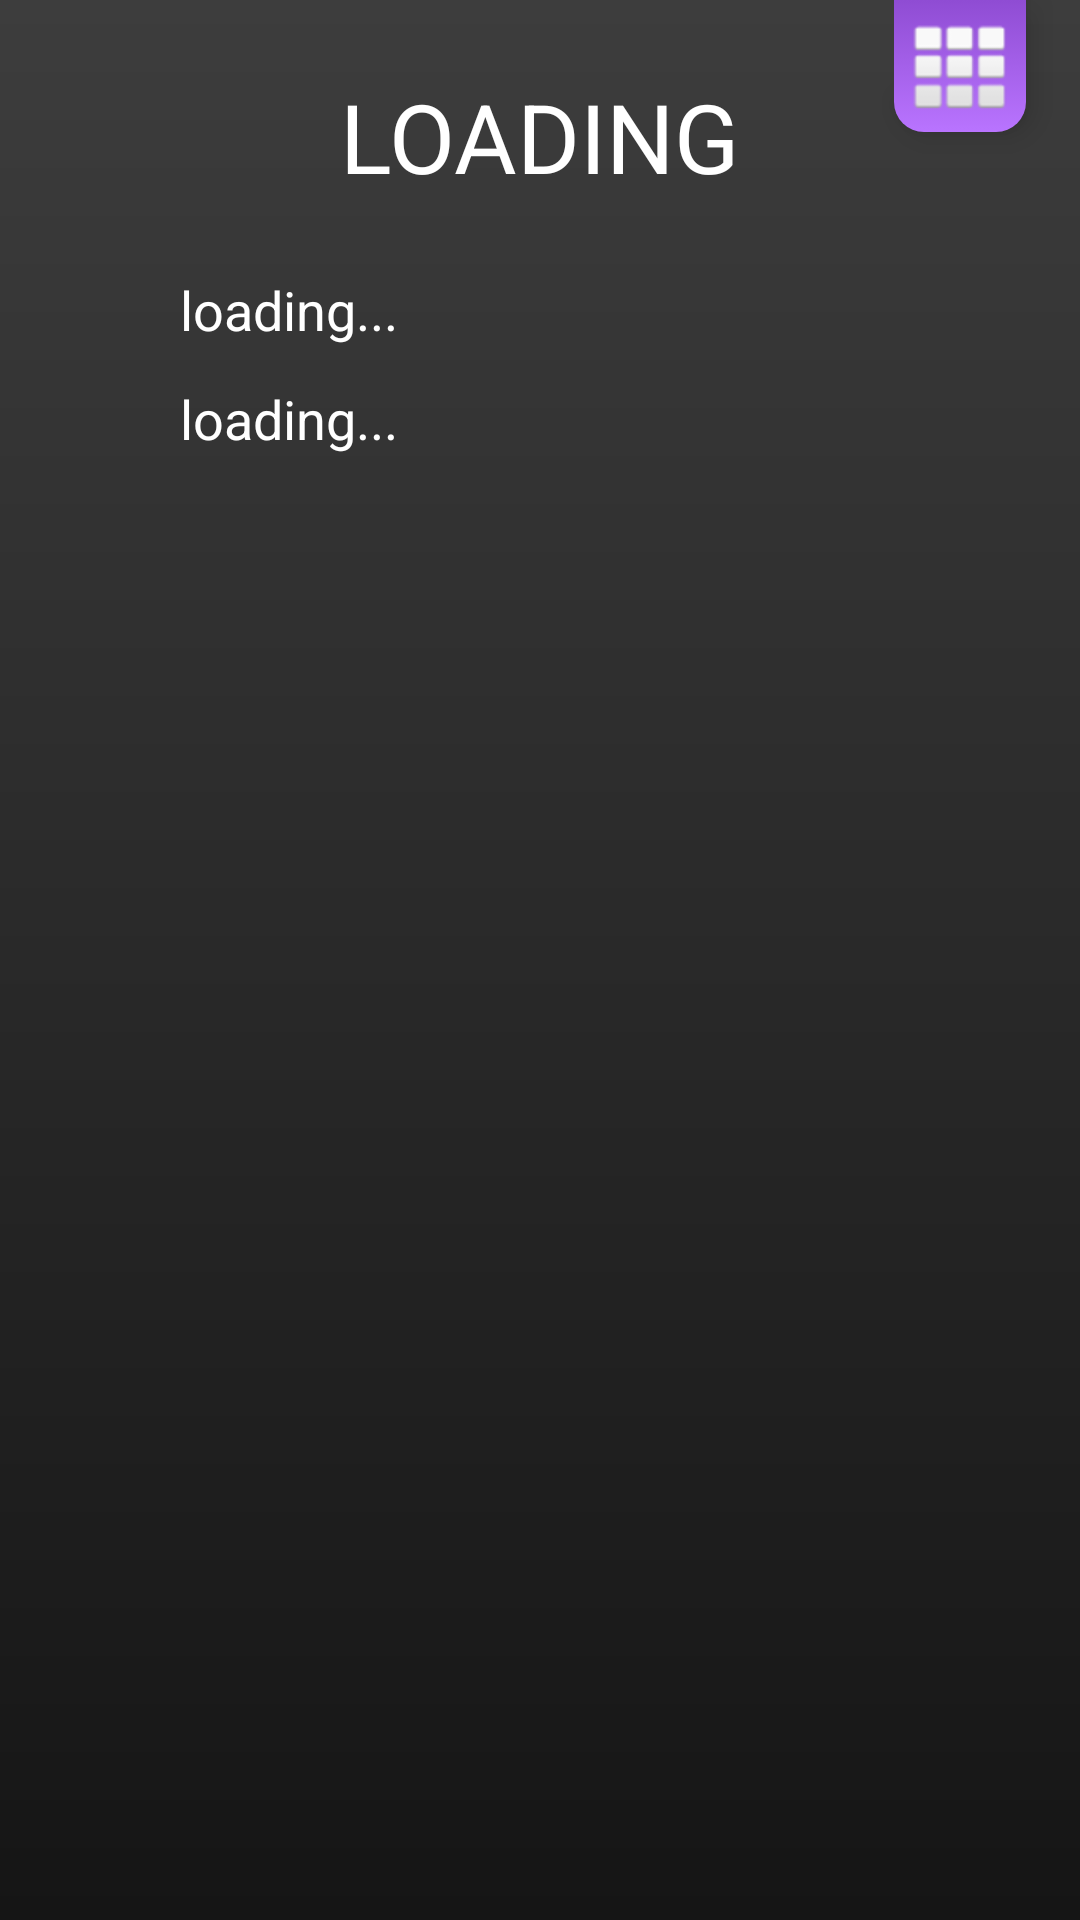

Icons on this 1080px x 1920px Android screen, each with its box as (x1, y1, x2, y2):
dialer: (894, 0, 1026, 132)
